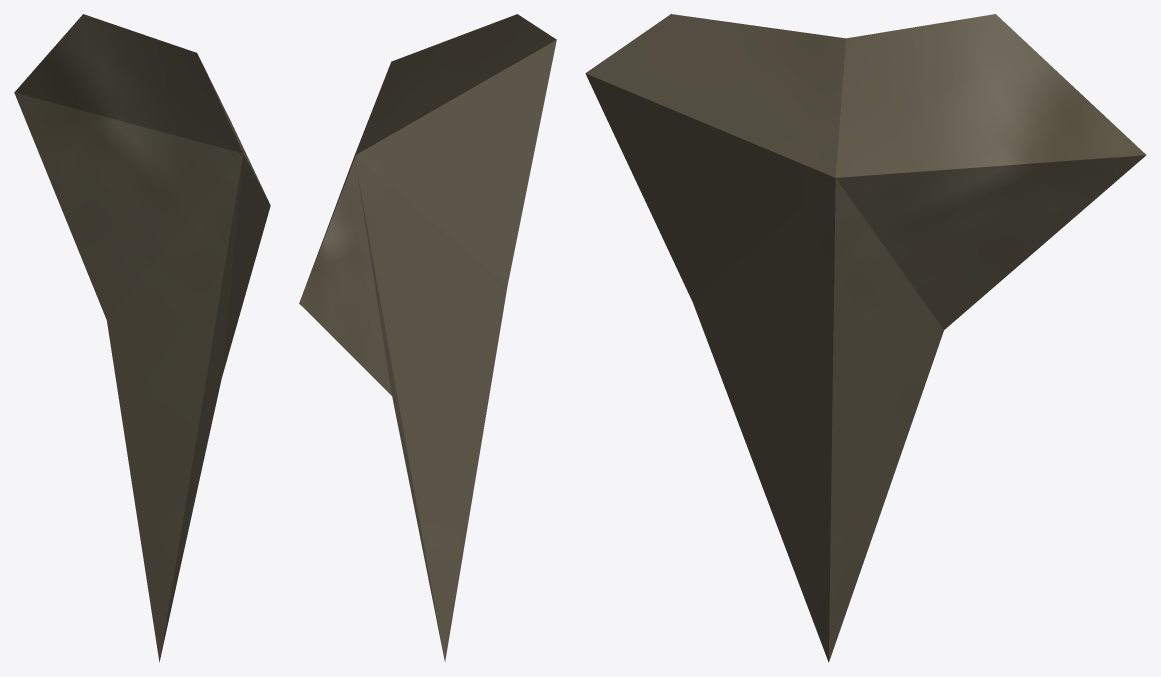
3 renders of one model, left to right at view 1: azimuth 30°, elevation 25°; view 2: azimuth 150°, elevation 25°; view 3: azimuth 270°, elevation 25°, orthographic. The views are drawn at different scales.
Size of the model in its own units: 0.0472 by 0.3071 by 0.2407.
1 material, 1 textured.
